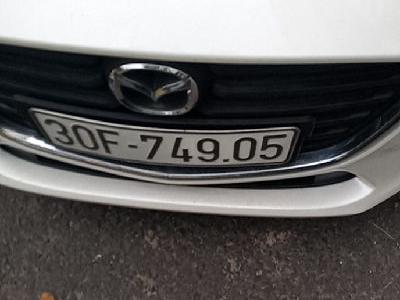number: (30, 107, 296, 167)
